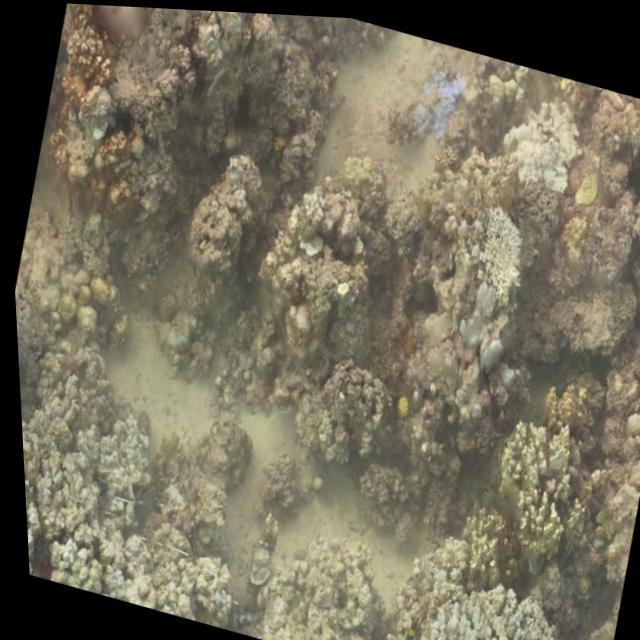Bleached Coral: (401, 538, 573, 640), (490, 88, 590, 196), (454, 193, 541, 305)
